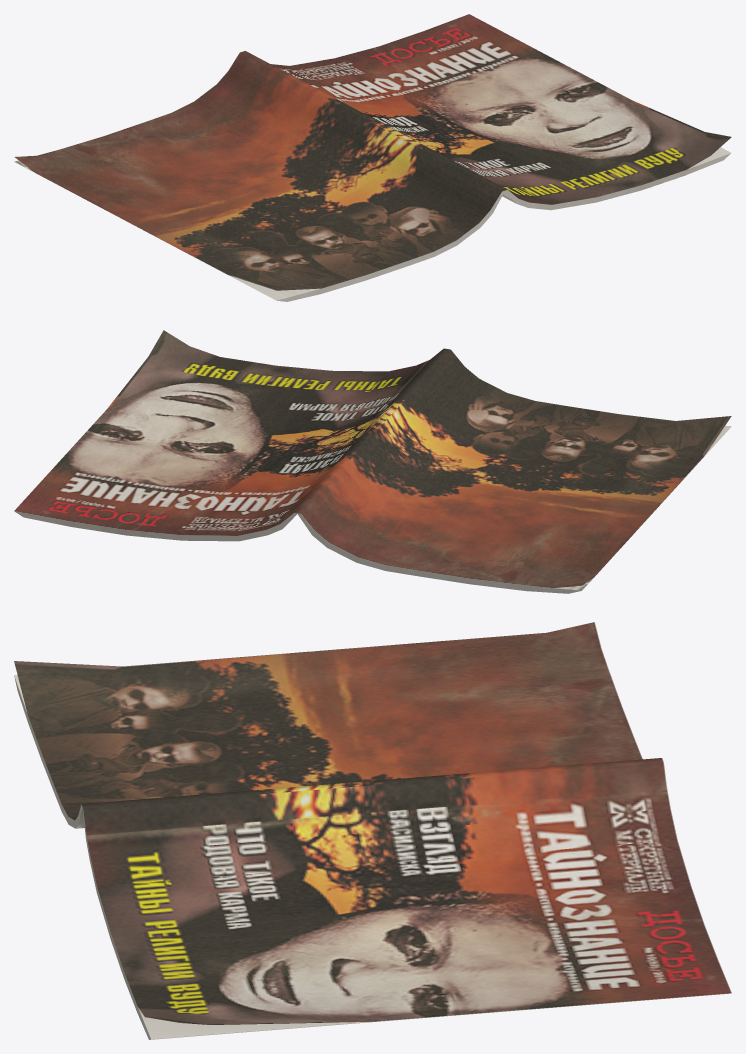
Rendered from magazine02.fbx.
The picture shows the model from 3 angles, top to bottom: view 1: azimuth 30°, elevation 25°; view 2: azimuth 150°, elevation 25°; view 3: azimuth 270°, elevation 25°; orthographic projection. The views are drawn at different scales.
Parts seen in each view (by area): view 1: magazine1_1; view 2: magazine1_1; view 3: magazine1_1.
Part boxes in pixels (box(x1,y1,x2,y2)): magazine1_1: box(14, 14, 731, 301); magazine1_1: box(14, 330, 731, 593); magazine1_1: box(14, 622, 731, 1039).
Bounding box in the file's own units: 481 × 42.33 × 374.
